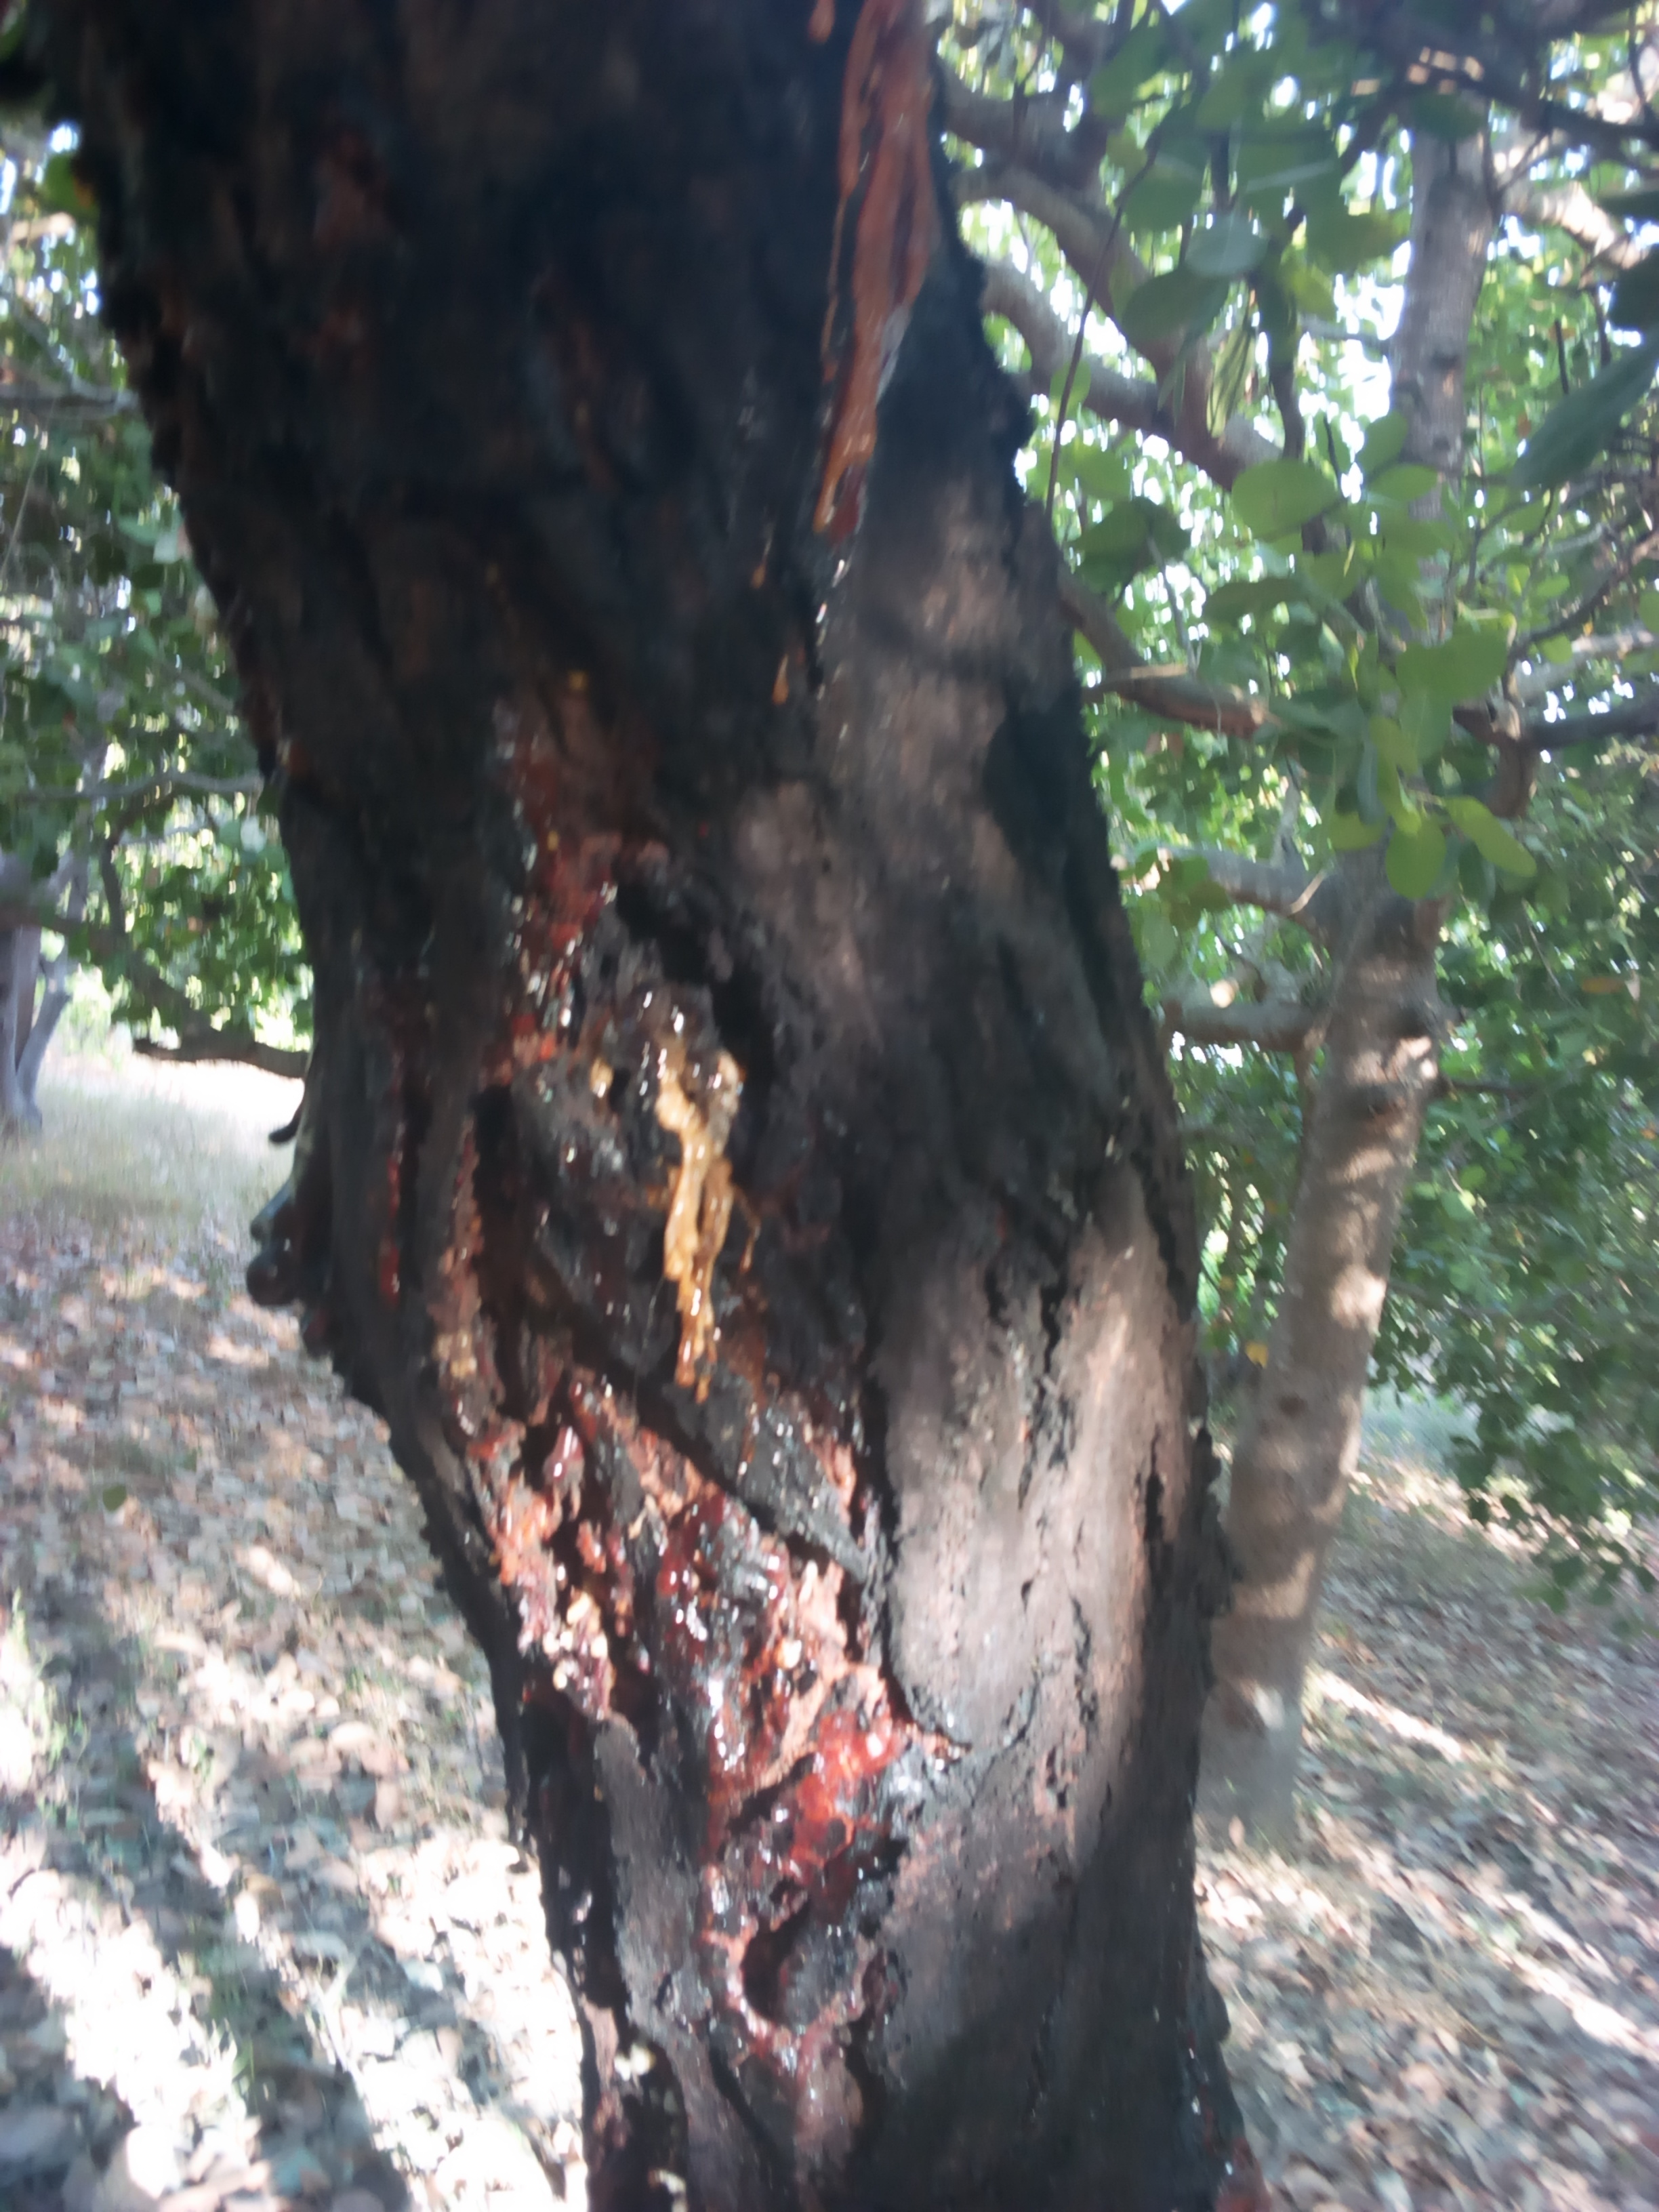Gommose: (234, 232, 988, 1984)
